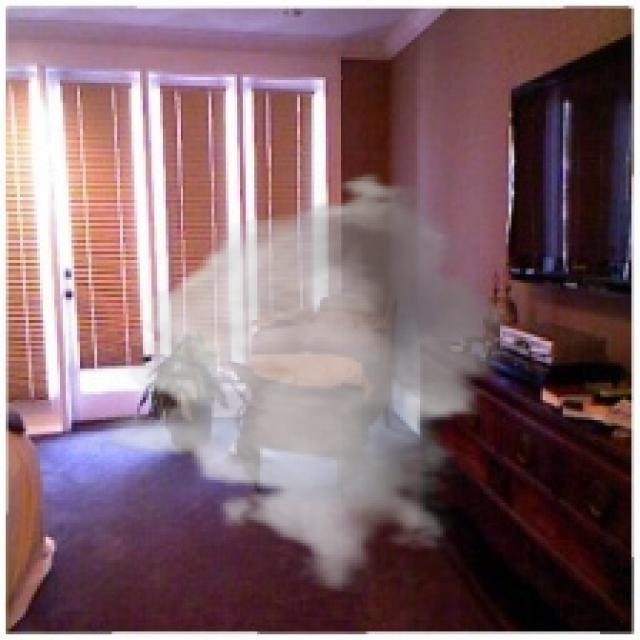smoke: (103, 168, 528, 592)
